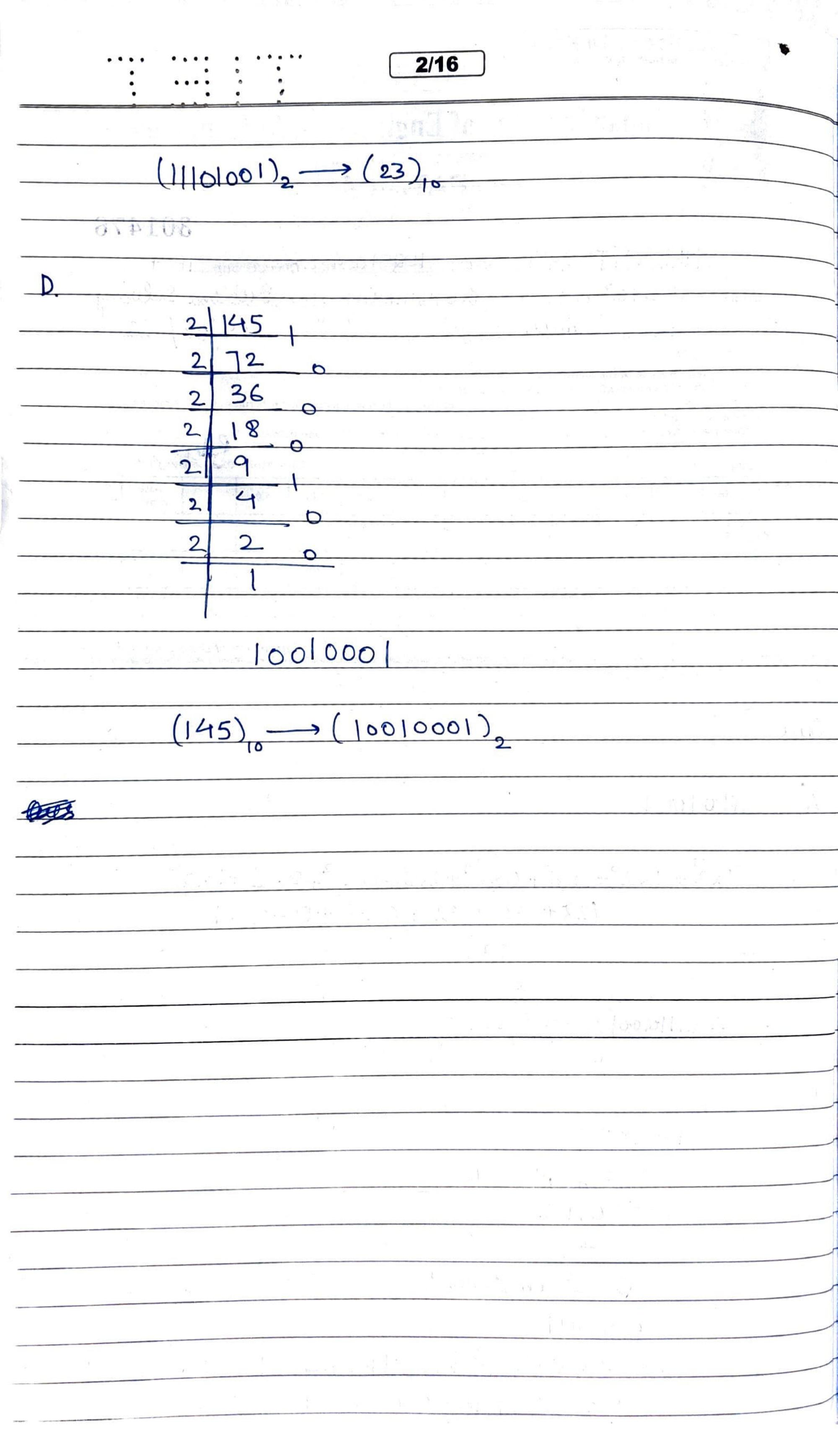cuttings: (19, 798, 77, 826)
